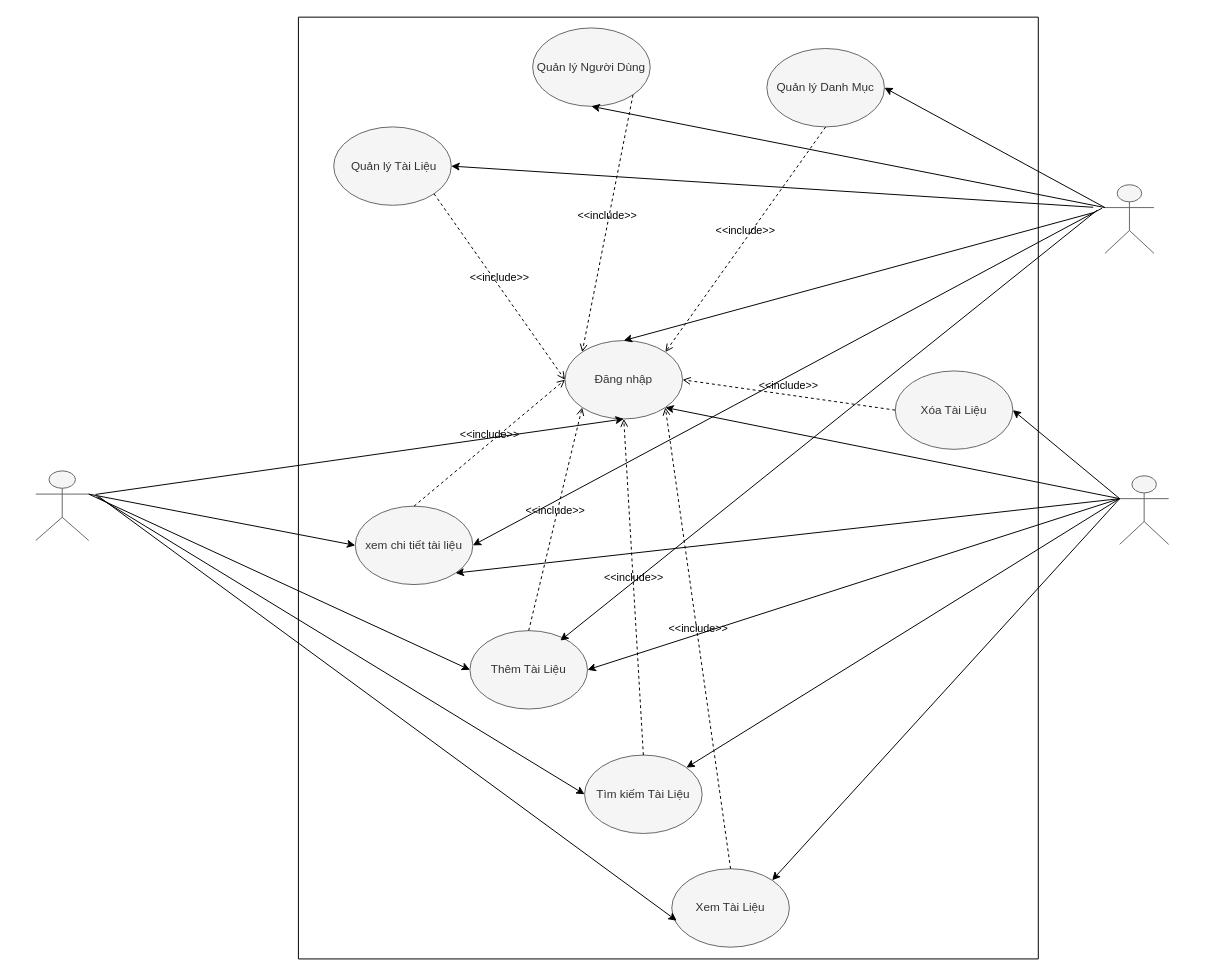
This 1221x976 diagram has some shape labels left out. The centre of each missing label's shape, as x and y in pixels:
"Nhân Viên" goes at point 62,505.
"Quản lý" goes at point 1144,509.
"Quản lý hệ thống" goes at point 1129,218.
